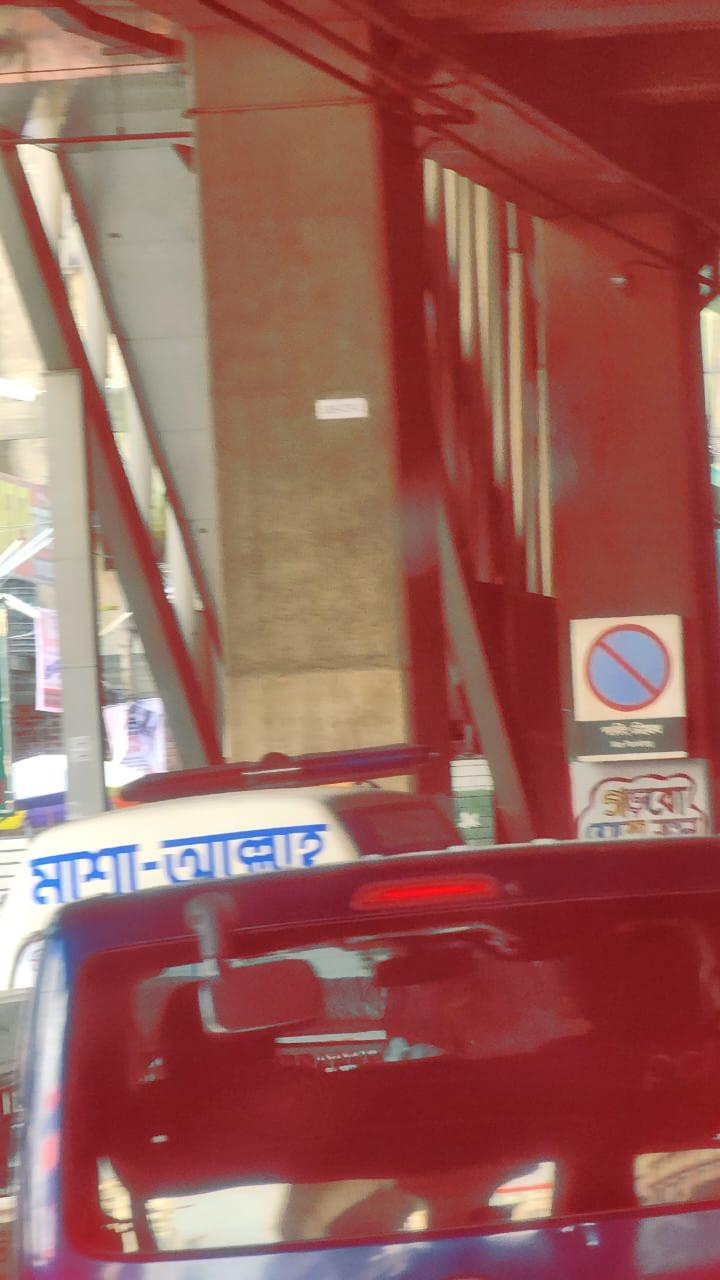No Parking: (569, 618, 690, 757)
